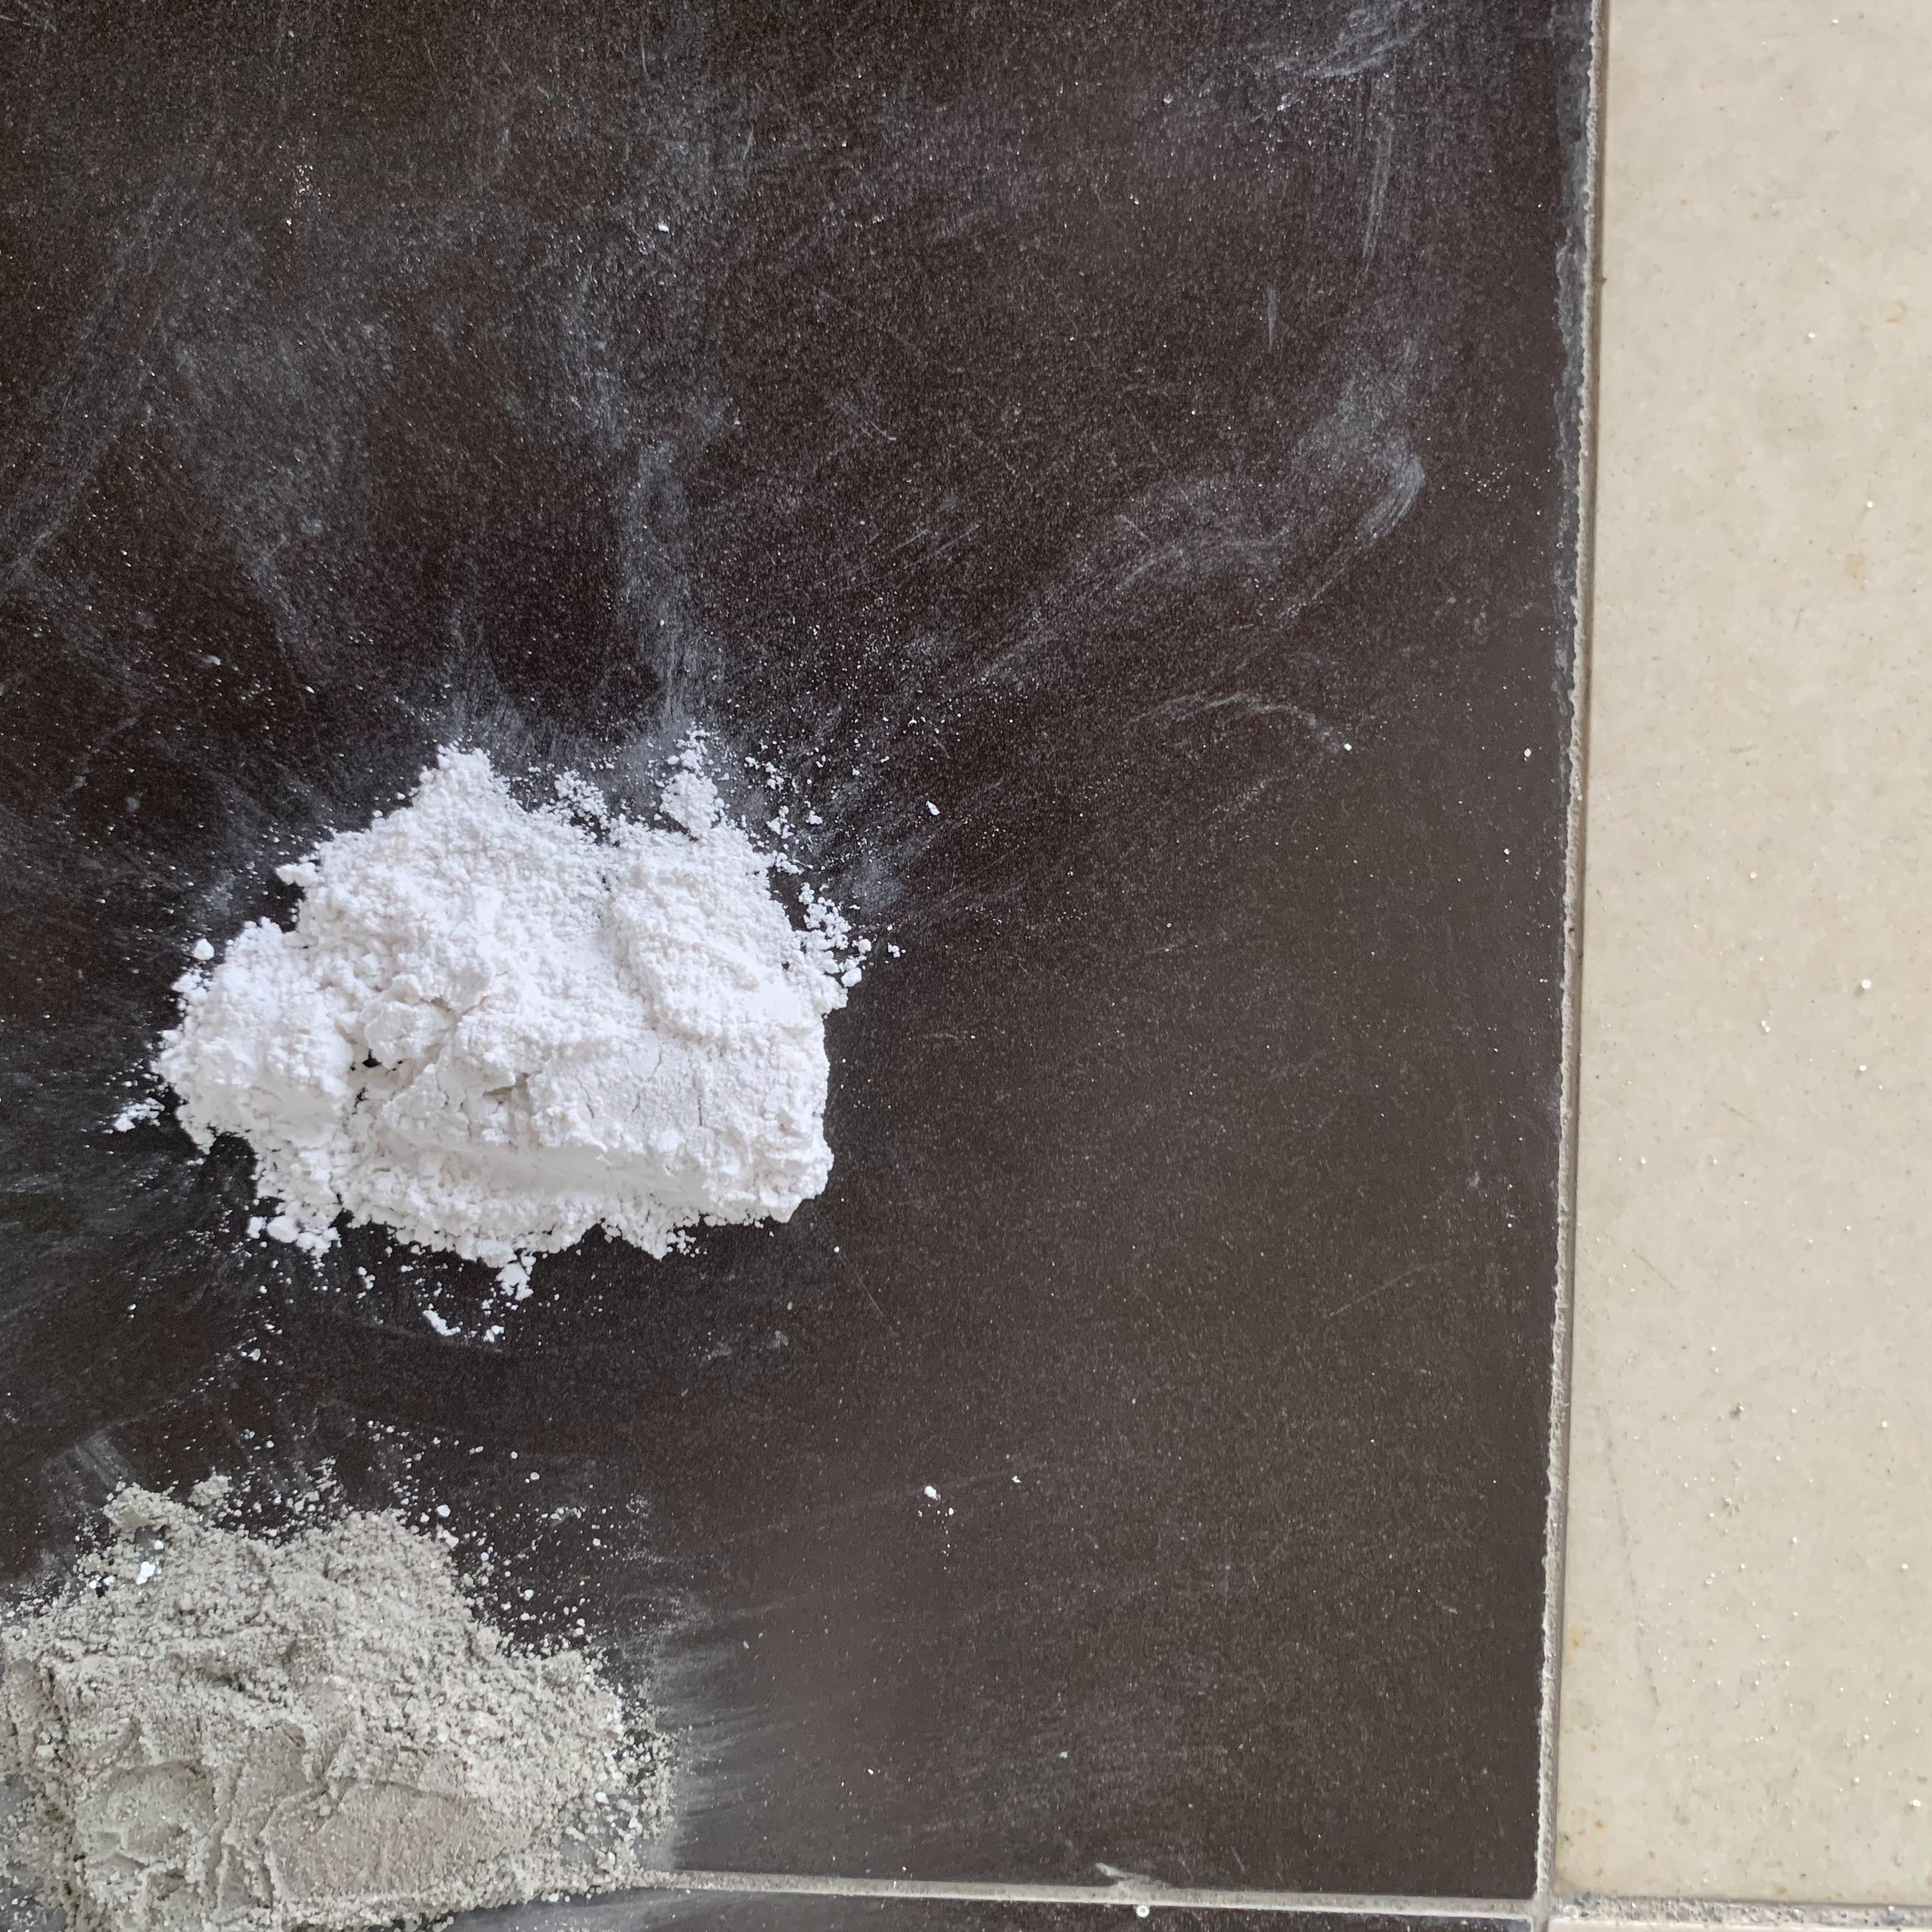ash pile: (108, 717, 911, 1350), (2, 1417, 681, 1932)
